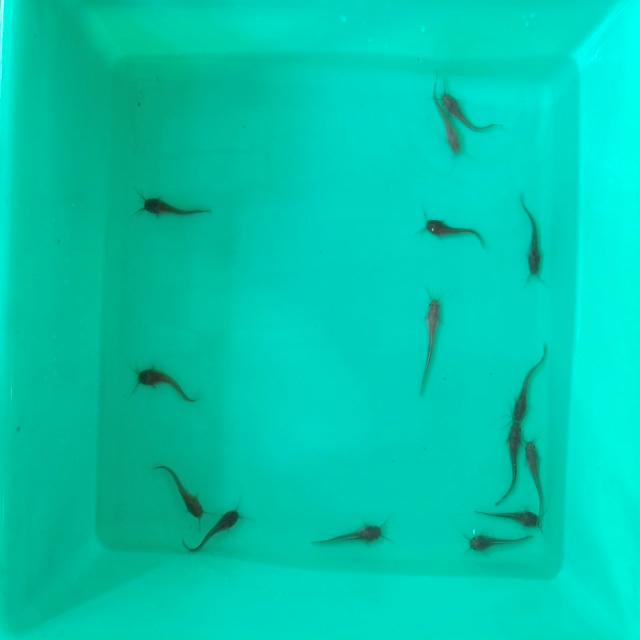lele: (184, 503, 243, 554), (414, 296, 446, 385), (153, 456, 202, 514), (132, 361, 198, 402), (511, 346, 546, 418), (521, 198, 548, 280), (313, 520, 388, 549), (500, 420, 526, 503), (135, 195, 210, 223), (442, 89, 495, 127), (473, 500, 543, 528), (424, 214, 484, 244), (461, 532, 534, 556), (523, 436, 546, 507), (441, 112, 463, 157)
